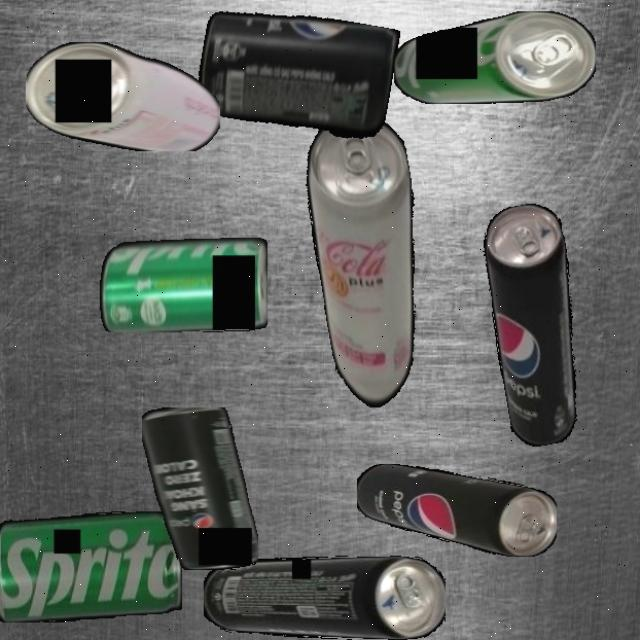debris: (293, 108, 450, 419), (473, 200, 599, 450), (192, 0, 400, 144), (26, 41, 220, 151), (202, 555, 445, 640), (0, 510, 182, 622), (141, 407, 258, 570), (393, 11, 596, 104), (356, 464, 557, 557), (99, 237, 267, 332)
